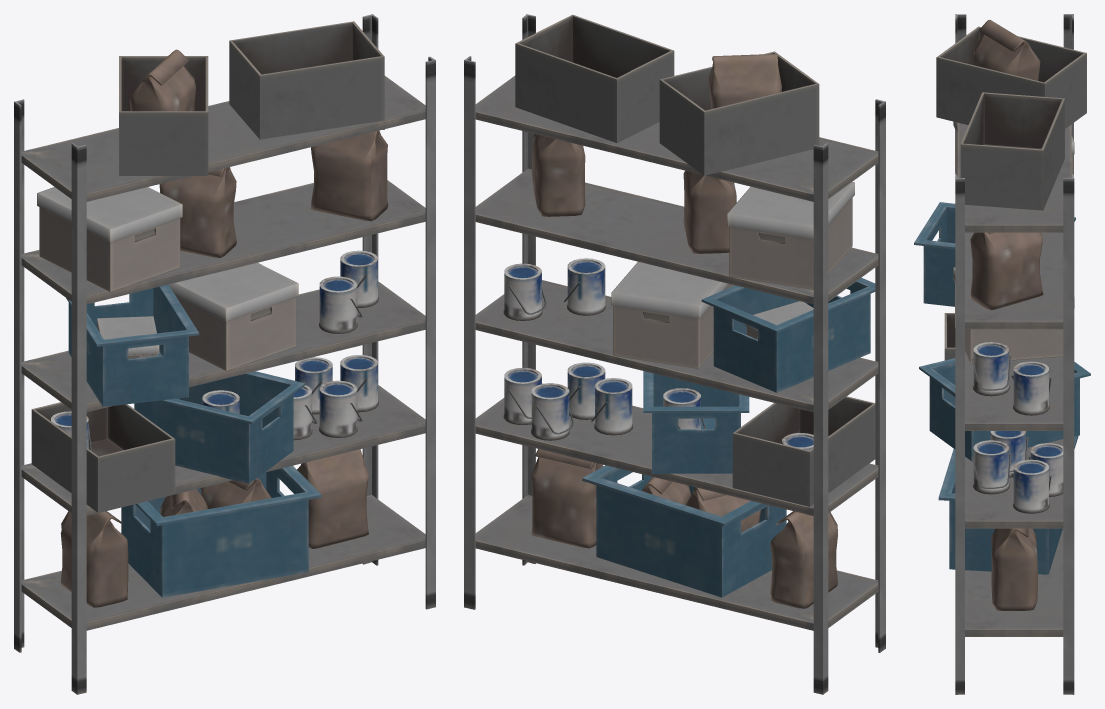
Rendered from Garage_Shelf_WithProps_B.FBX.
The picture shows the model from 3 angles, left to right: view 1: azimuth 30°, elevation 25°; view 2: azimuth 150°, elevation 25°; view 3: azimuth 270°, elevation 25°; orthographic projection. The views are drawn at different scales.
Visible parts, largest first — view 1: Garage_Shelf_WithProps_B; view 2: Garage_Shelf_WithProps_B; view 3: Garage_Shelf_WithProps_B.
Boxes of the visible parts, x1=… form: Garage_Shelf_WithProps_B: x1=14, y1=14, x2=435, y2=694; Garage_Shelf_WithProps_B: x1=464, y1=14, x2=885, y2=694; Garage_Shelf_WithProps_B: x1=914, y1=14, x2=1090, y2=694.
Bounding box in the file's own units: 137 × 214 × 62.14.
